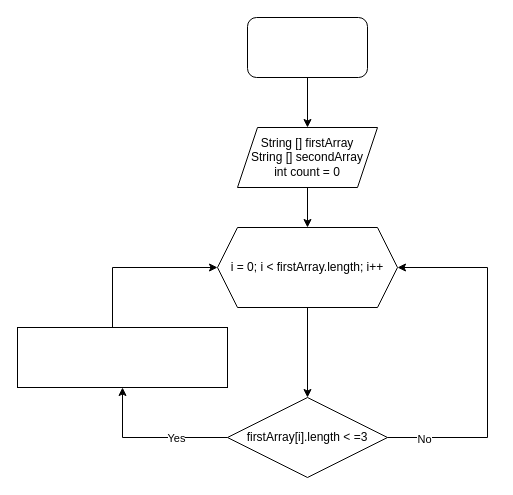
Some shapes in this 513 by 495 pixel diagram are drawn without their labels. The shapes that lost their labels are listed below. From the top down, each one's centre as x and y in pixels, then its label:
At point (307, 47): "Void NewArray".
At point (122, 357): "secondArray[count] = firstArray [i] count ++".
